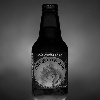beer: (25, 2, 70, 100)
